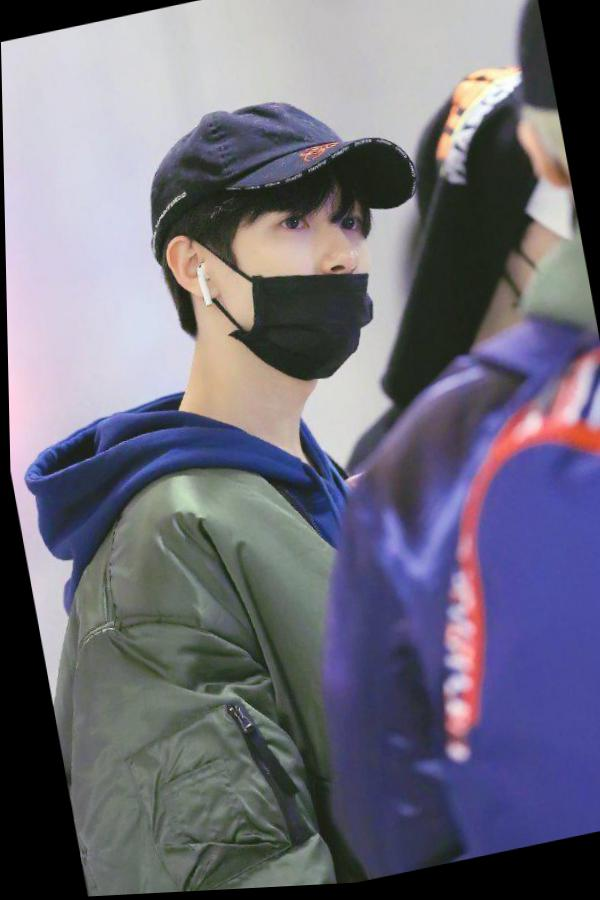WRONG: (221, 177, 394, 397)
